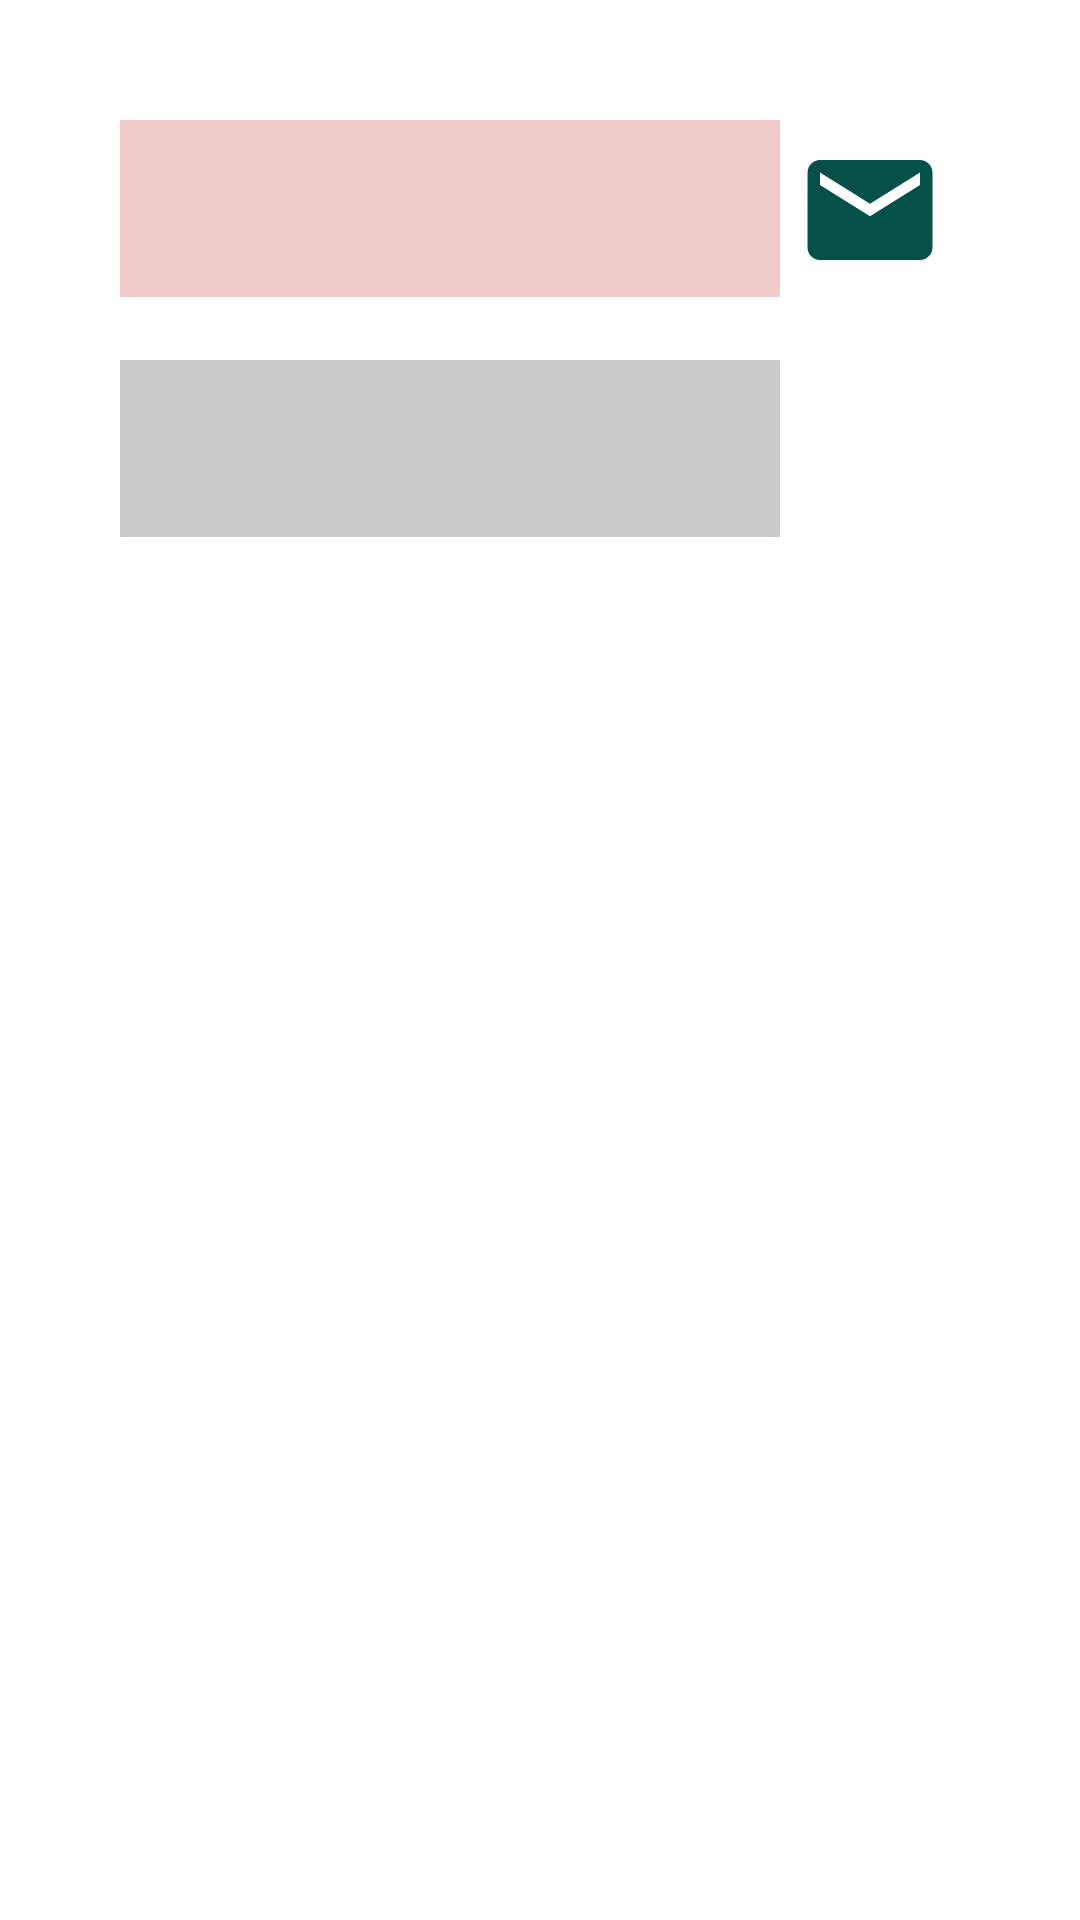

Point at icon controls on the screen. Image size 1080 x 1920, points as point (x, y).
email: point (870, 210)
